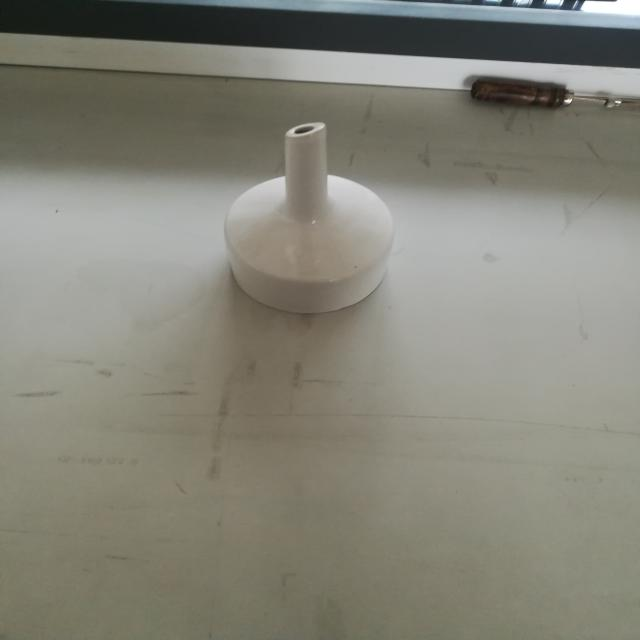Buchner_Funnel: (198, 101, 434, 353)
